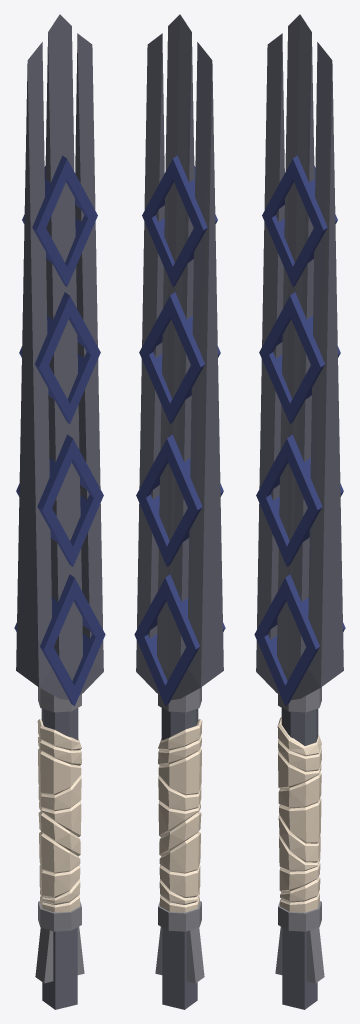
Rendered from _hammer_23.fbx.
The picture shows the model from 3 angles, left to right: view 1: azimuth 30°, elevation 25°; view 2: azimuth 150°, elevation 25°; view 3: azimuth 330°, elevation 25°; orthographic projection.
Visible parts, largest first — view 1: hammer_23; view 2: hammer_23; view 3: hammer_23.
Boxes of the visible parts, <box> form: hammer_23: <box>14,14,105,1009</box>; hammer_23: <box>134,14,225,1009</box>; hammer_23: <box>254,14,345,1009</box>.
Bounding box in the file's own units: 5.54 × 80.59 × 4.36.
